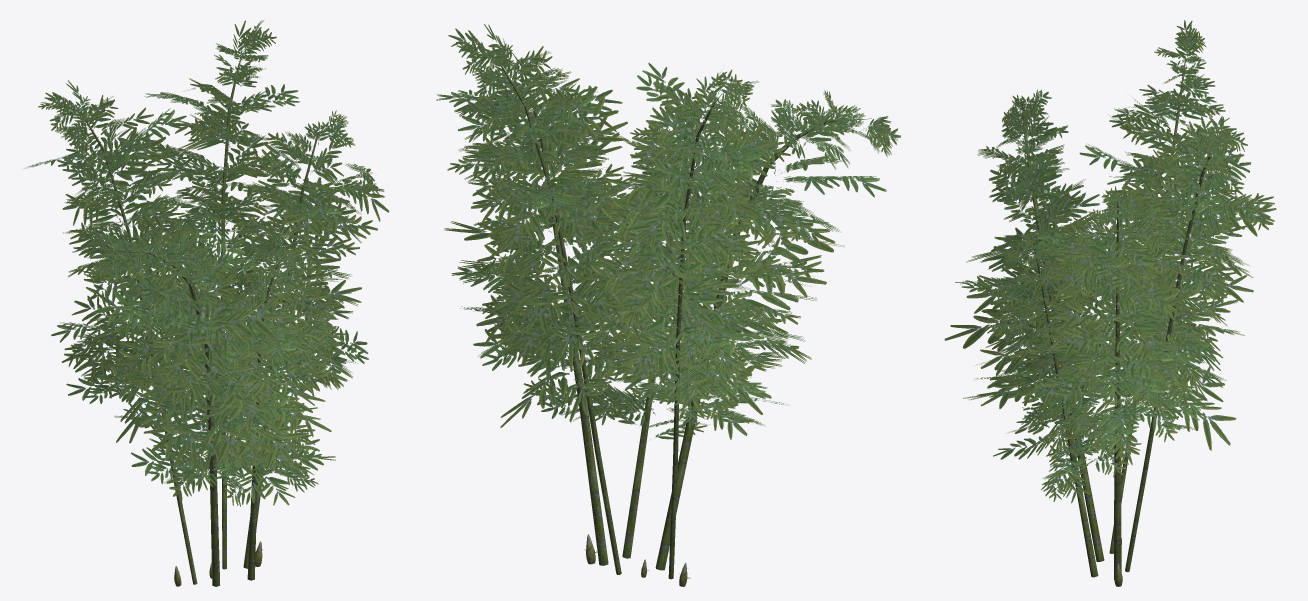
File: p_com_zhuzi02.FBX
3 renders of one model, left to right at view 1: azimuth 30°, elevation 25°; view 2: azimuth 150°, elevation 25°; view 3: azimuth 270°, elevation 25°, orthographic. The views are drawn at different scales.
Visible parts, largest first — view 1: p_com_zhuzi02; view 2: p_com_zhuzi02; view 3: p_com_zhuzi02.
Part boxes in pixels (left/top/right/bottom): p_com_zhuzi02: left=24, top=20, right=389, bottom=586; p_com_zhuzi02: left=436, top=24, right=900, bottom=586; p_com_zhuzi02: left=944, top=20, right=1276, bottom=586.
Size of the model in its own units: 8.93 by 12.36 by 8.14.
